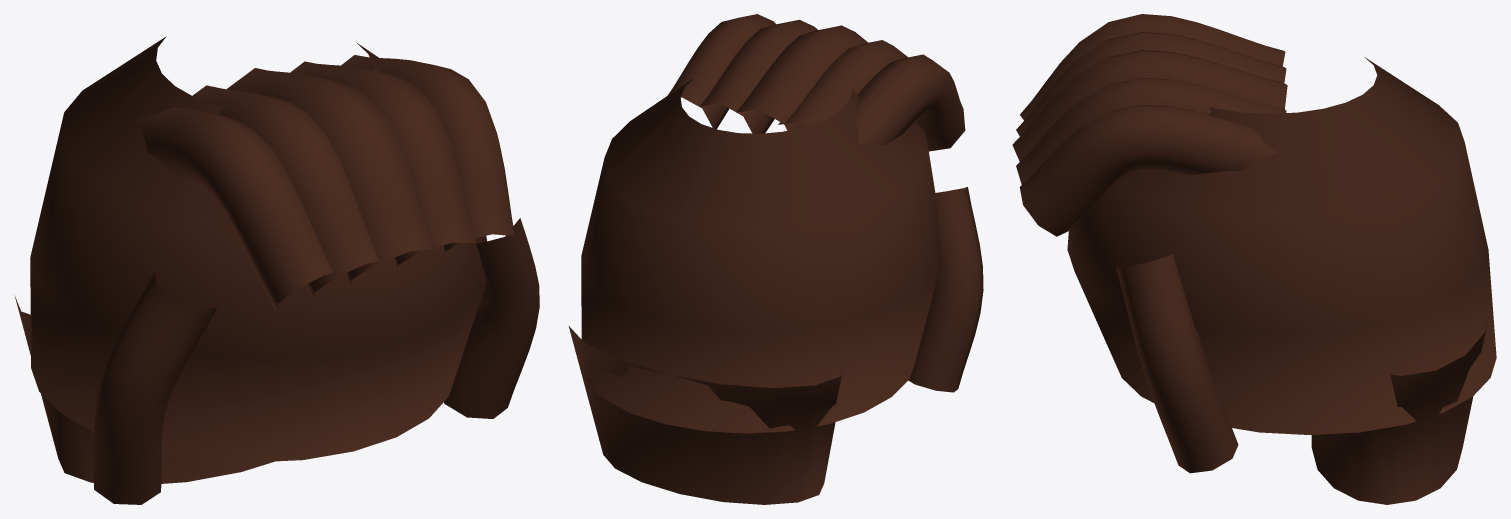
File: short.glb
3 renders of one model, left to right at view 1: azimuth 30°, elevation 25°; view 2: azimuth 150°, elevation 25°; view 3: azimuth 270°, elevation 25°, orthographic. The views are drawn at different scales.
Parts seen in each view (by area): view 1: hair_cap, short_lock_-2, temple_lock_-1, short_lock_0, short_lock_-1, temple_lock_1, short_lock_1, short_lock_2, short_nape; view 2: hair_cap, short_nape, temple_lock_-1, short_lock_-2, short_lock_0, short_lock_1, short_lock_-1, short_lock_2; view 3: hair_cap, short_lock_2, short_nape, temple_lock_1, short_lock_0, short_lock_1, short_lock_-1, short_lock_-2.
Part boxes in pixels (x1,y1,x2,y2): hair_cap: (30, 36, 487, 462); short_lock_-2: (138, 107, 333, 309); temple_lock_-1: (93, 272, 217, 504); short_lock_0: (227, 68, 437, 289); short_lock_-1: (192, 85, 388, 299); temple_lock_1: (444, 218, 539, 418); short_lock_1: (290, 61, 475, 273); short_lock_2: (341, 55, 516, 251); short_nape: (14, 295, 274, 483); hair_cap: (581, 78, 941, 433); short_nape: (568, 326, 842, 504); temple_lock_-1: (908, 187, 983, 392); short_lock_-2: (854, 54, 965, 151); short_lock_0: (736, 25, 867, 130); short_lock_1: (700, 19, 817, 133); short_lock_-1: (778, 40, 908, 126); short_lock_2: (666, 14, 775, 129); hair_cap: (1067, 57, 1496, 434); short_lock_2: (1019, 105, 1278, 236); short_nape: (1311, 325, 1487, 504); temple_lock_1: (1116, 254, 1238, 473); short_lock_0: (1012, 50, 1287, 161); short_lock_1: (1016, 77, 1286, 184); short_lock_-1: (1016, 32, 1286, 136); short_lock_-2: (1020, 14, 1285, 120).
Size of the model in its own units: 0.2205 by 0.2202 by 0.2438.
